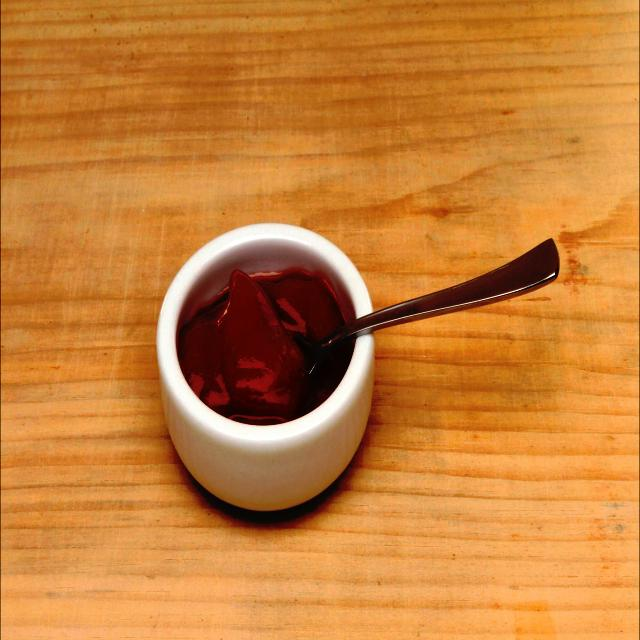ketchup: (175, 262, 351, 434)
